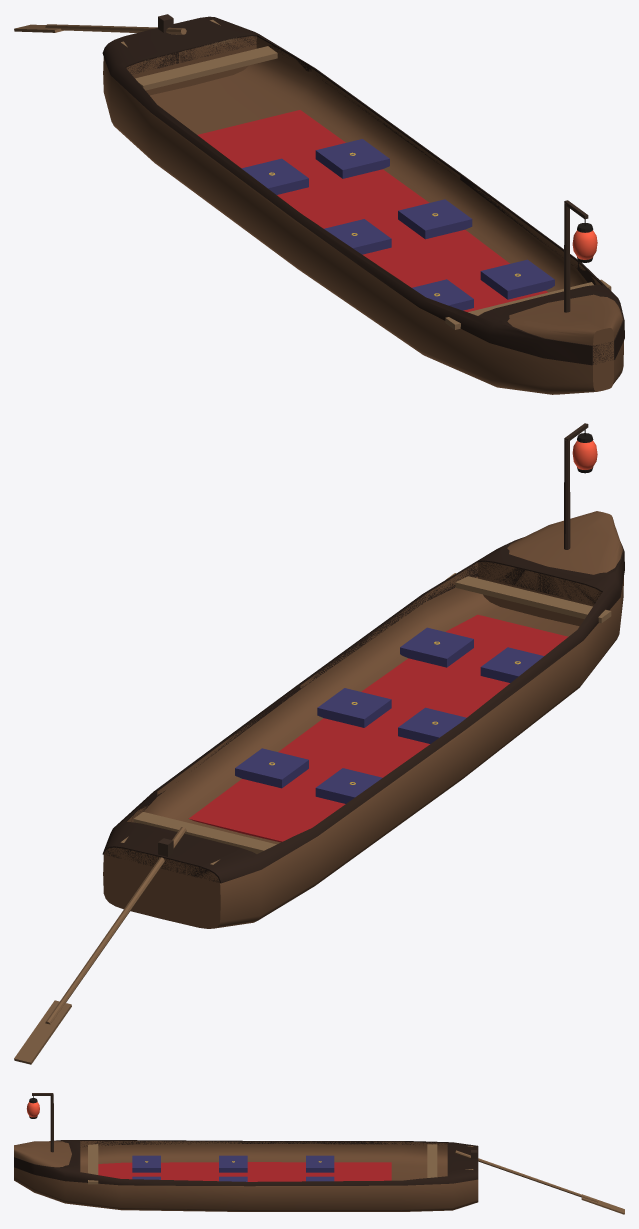
File: boat.glb
The picture shows the model from 3 angles, top to bottom: view 1: azimuth 30°, elevation 25°; view 2: azimuth 150°, elevation 25°; view 3: azimuth 270°, elevation 25°; orthographic projection. The views are drawn at different scales.
Visible parts, largest first — view 1: hull0, felt2, sheer1, deck16, cushion6, cushion8, cushion4, cushion7, cushion5, cushion3, oar24, pole18 (+2 smaller); view 2: hull0, felt2, sheer1, deck15, cushion6, cushion4, cushion8, deck16, oar24, cushion5, cushion7, cushion3 (+1 smaller); view 3: hull0, sheer1, felt2, oar24, cushion3, cushion5, cushion7, deck15, deck16, oar25, pole18.
Part boxes in pixels (<box>): hull0: <box>103,36,623,394</box>; felt2: <box>197,110,547,312</box>; sheer1: <box>102,16,624,365</box>; deck16: <box>135,46,277,90</box>; cushion6: <box>398,199,472,239</box>; cushion8: <box>315,139,389,178</box>; cushion4: <box>480,259,554,299</box>; cushion7: <box>242,158,308,194</box>; cushion5: <box>324,219,391,254</box>; cushion3: <box>412,279,473,310</box>; oar24: <box>45,24,186,34</box>; pole18: <box>564,203,570,312</box>; hull0: <box>103,511,623,928</box>; felt2: <box>189,614,568,842</box>; sheer1: <box>102,537,624,883</box>; deck15: <box>446,573,611,623</box>; cushion6: <box>317,688,391,727</box>; cushion4: <box>400,627,473,667</box>; cushion8: <box>235,748,308,788</box>; deck16: <box>133,812,276,853</box>; oar24: <box>45,827,186,1024</box>; cushion5: <box>398,707,466,743</box>; cushion7: <box>315,768,382,803</box>; cushion3: <box>480,647,543,682</box>; hull0: <box>14,1141,478,1211</box>; sheer1: <box>14,1140,478,1186</box>; felt2: <box>98,1162,391,1181</box>; oar24: <box>455,1150,598,1202</box>; cushion3: <box>132,1155,160,1172</box>; cushion5: <box>219,1155,247,1172</box>; cushion7: <box>306,1155,334,1172</box>; deck15: <box>88,1144,98,1184</box>; deck16: <box>427,1144,437,1177</box>; oar25: <box>581,1194,624,1214</box>; pole18: <box>50,1094,53,1152</box>.
Size of the model in its own units: 2.05 by 2.58 by 11.98.
